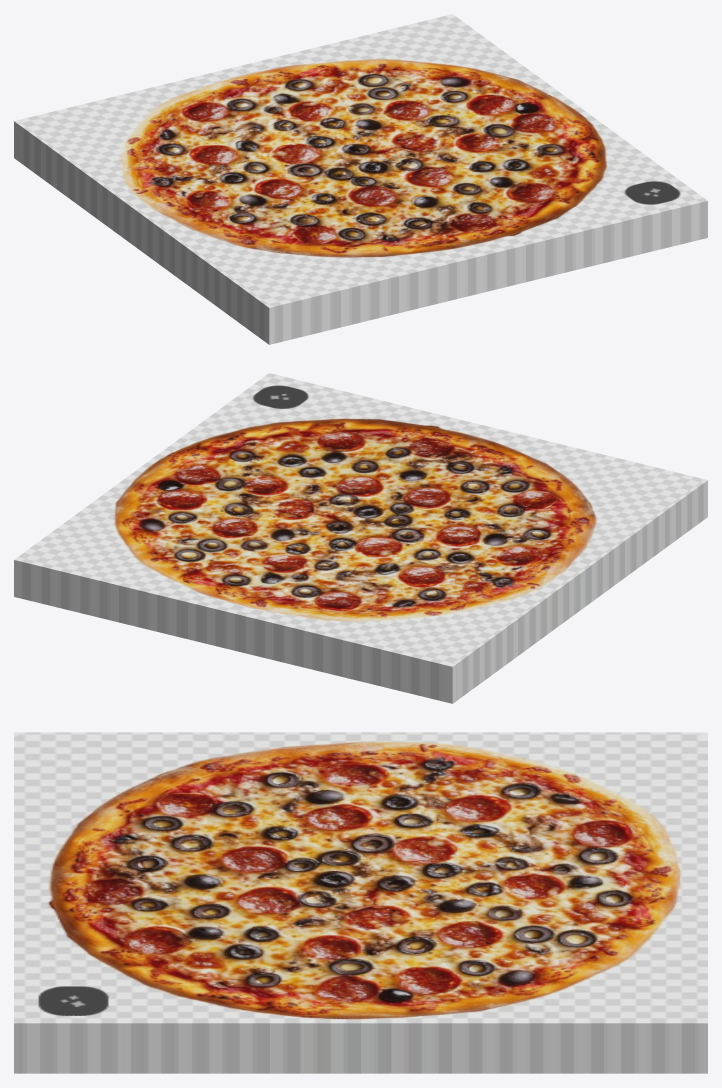
Rendered from pizzacaazeitona.glb.
3 renders of one model, top to bottom at view 1: azimuth 30°, elevation 25°; view 2: azimuth 150°, elevation 25°; view 3: azimuth 270°, elevation 25°, orthographic. The views are drawn at different scales.
Bounding box in the file's own units: 0.0992 × 0.008 × 0.1.
Materials: 1 (1 with a texture image).
